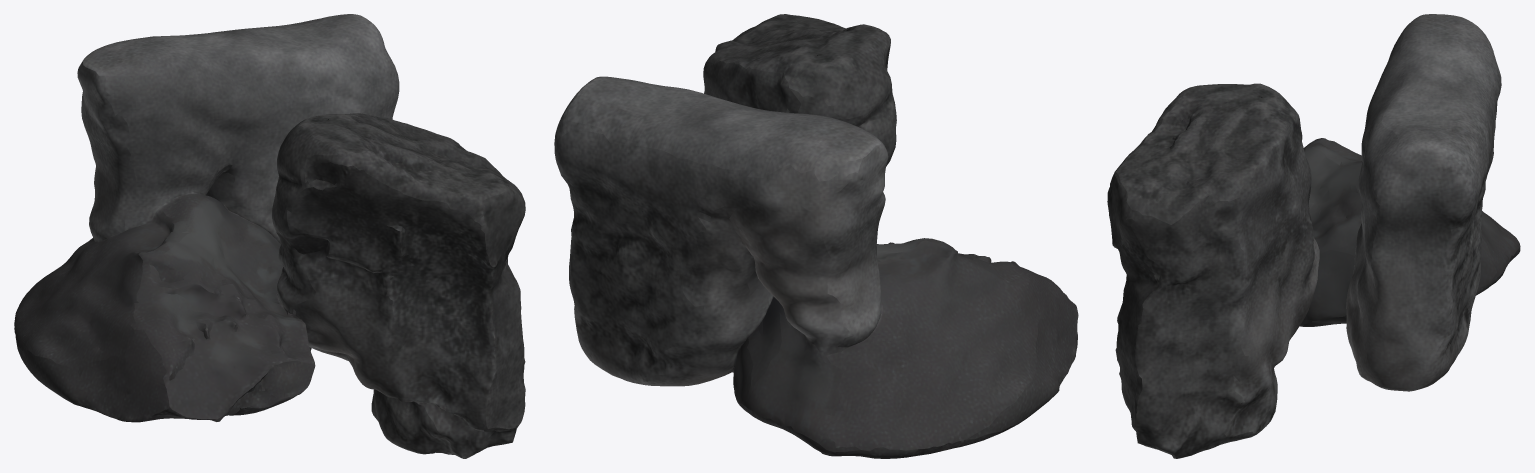
The picture shows the model from 3 angles, left to right: view 1: azimuth 30°, elevation 25°; view 2: azimuth 150°, elevation 25°; view 3: azimuth 270°, elevation 25°; orthographic projection. The views are drawn at different scales.
Parts seen in each view (by area): view 1: world; view 2: world; view 3: world.
Boxes of the visible parts, x1=… form: world: x1=14, y1=14, x2=525, y2=458; world: x1=554, y1=14, x2=1078, y2=458; world: x1=1107, y1=14, x2=1520, y2=458.
Bounding box in the file's own units: 1.2 × 1.07 × 1.2.
Materials: 1 (1 with a texture image).
